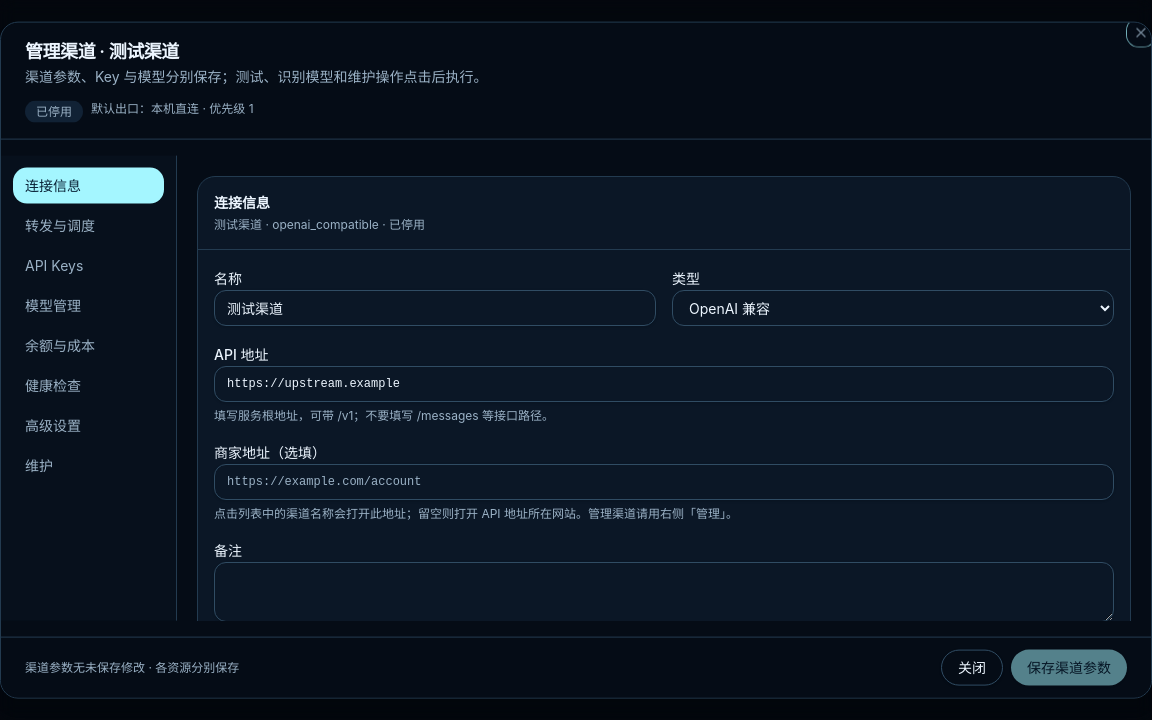
ProviderDialog passthrough › shows a server-provided unsupported channel reason
What coordinates should you click on to do the following:
click the button "转发与调度"
I would click on:
 (88, 226)
Its box is [13,208,164,244].
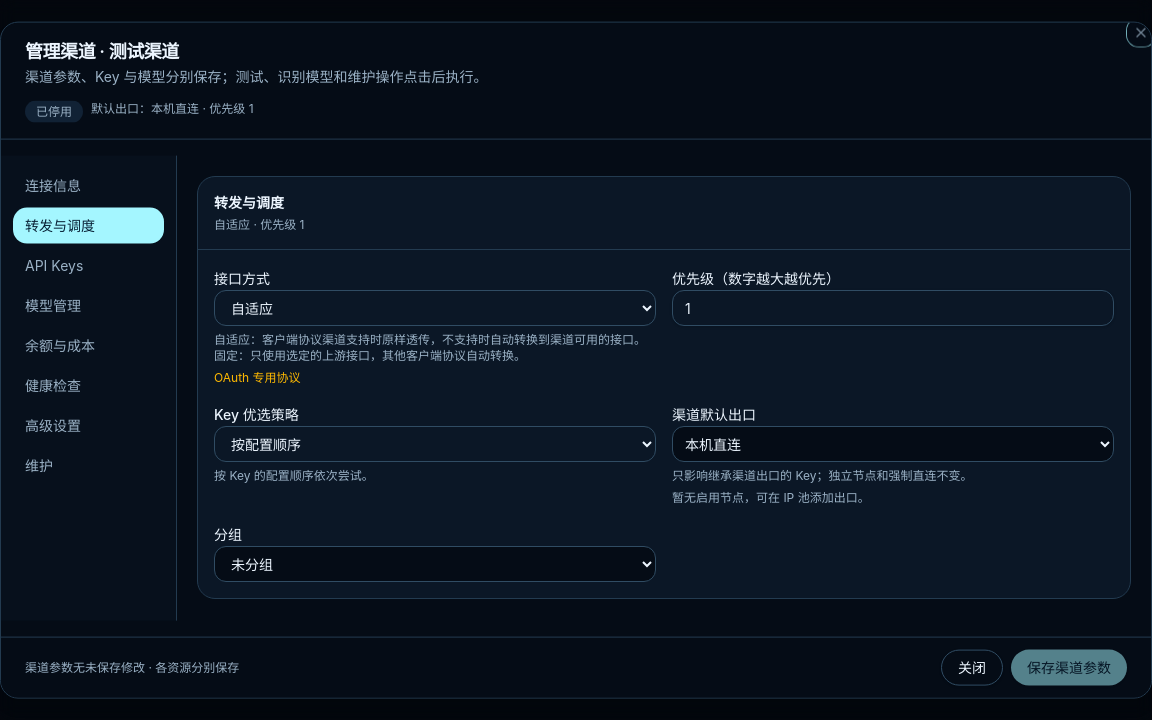
expect the text "OAuth 专用协议" is shown: met, box [214,370,300,385]
